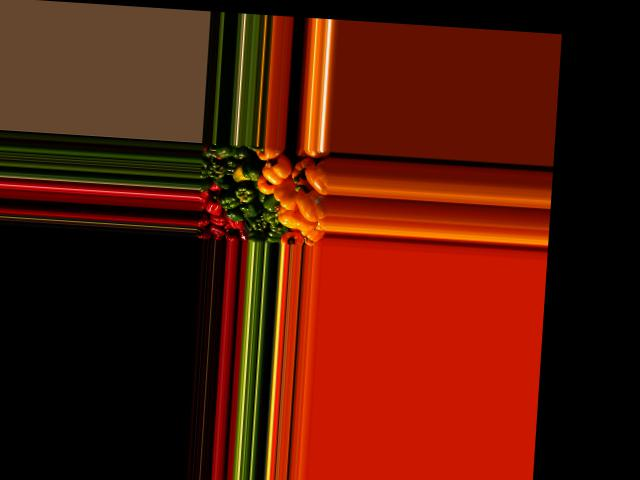bell_pepper: (201, 141, 225, 159)
